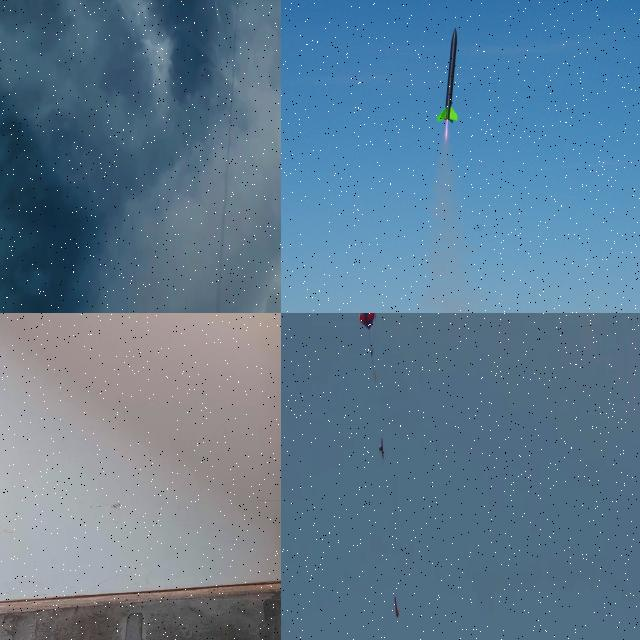Rocket: (436, 28, 459, 124), (395, 596, 399, 618)
